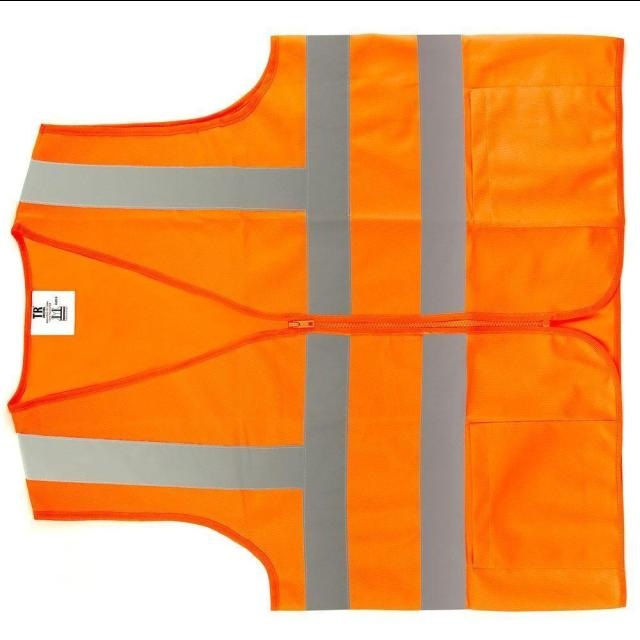jacket: (2, 26, 624, 624)
